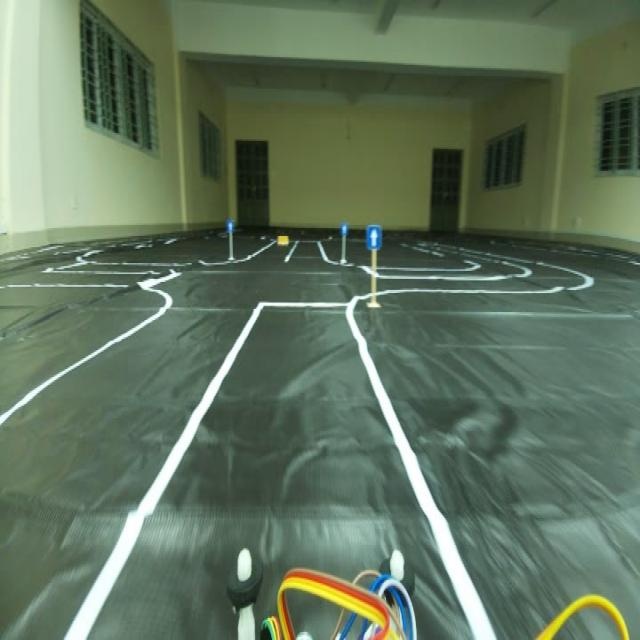onewayroad: (364, 217, 386, 253), (224, 216, 234, 231), (340, 219, 348, 236)
roadblock: (276, 235, 292, 247)
